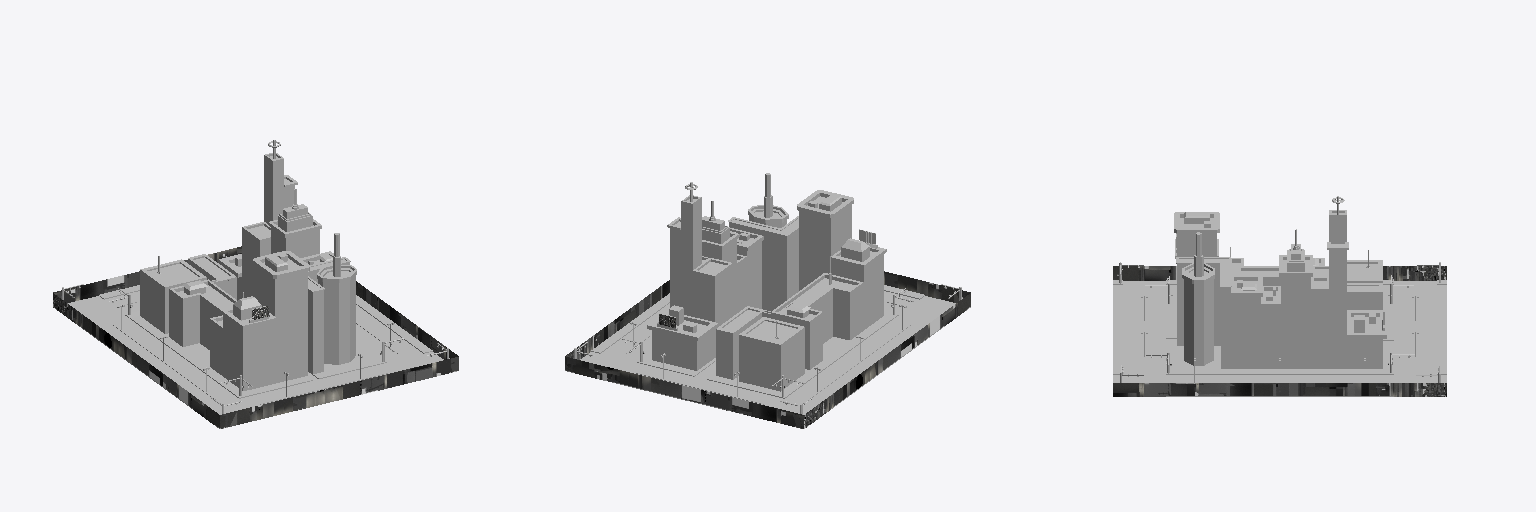
The picture shows the model from 3 angles: view 1: azimuth 30°, elevation 25°; view 2: azimuth 150°, elevation 25°; view 3: azimuth 270°, elevation 25°; orthographic projection.
Visible parts, largest first — view 1: wall, roads, City_Cube.003, sidewalk, building5wall1, City.004_Cube.012, building4wall3, roofs, building4wall2, building1wall2, building6wall1, building3wall3 (+6 smaller); view 2: City_Cube.003, wall, roads, sidewalk, roofs, building5wall3, building6wall5, building1wall1, building4wall2, building3ledge, building1wall2, building3wall5 (+7 smaller); view 3: City_Cube.003, roads, wall, sidewalk, roofs, building6wall2, building6wall4, City.005_Cube.013, City.004_Cube.012, City.007_Cube.015, building5wall2, building2wall1 (+1 smaller).
Boxes of the visible parts, box(x1,y1,x2,y2) form: wall: box(53, 246, 458, 428); roads: box(68, 291, 443, 414); City_Cube.003: box(218, 153, 356, 300); sidewalk: box(54, 265, 456, 428); building5wall1: box(275, 272, 307, 383); City.004_Cube.012: box(323, 276, 355, 364); building4wall3: box(243, 321, 274, 390); roofs: box(149, 156, 352, 325); building4wall2: box(223, 315, 242, 390); building1wall2: box(140, 271, 164, 333); building6wall1: box(313, 290, 323, 373); building3wall3: box(183, 298, 199, 346); City_Cube.003: box(647, 173, 788, 370); wall: box(565, 271, 970, 428); roads: box(580, 291, 955, 414); sidewalk: box(565, 285, 970, 428); roofs: box(675, 196, 875, 341); building5wall3: box(799, 211, 830, 290); building6wall5: box(729, 223, 786, 311); building1wall1: box(739, 336, 780, 391); building4wall2: box(864, 255, 883, 329); building3ledge: box(771, 273, 863, 324); building1wall2: box(781, 329, 804, 390); building3wall5: box(833, 291, 849, 339); City_Cube.003: box(1182, 210, 1386, 368); roads: box(1113, 281, 1446, 382); wall: box(1113, 266, 1446, 396); sidewalk: box(1113, 280, 1446, 396); roofs: box(1179, 213, 1379, 332); building6wall2: box(1177, 264, 1220, 345); building6wall4: box(1221, 287, 1230, 368); City.005_Cube.013: box(1204, 279, 1213, 365); City.004_Cube.012: box(1184, 279, 1193, 365); City.007_Cube.015: box(1194, 284, 1203, 365); building5wall2: box(1177, 234, 1216, 256); building2wall1: box(1347, 293, 1382, 309).
Bounding box in the file's own units: 12.97 × 8.6 × 15.7.
Materials: 2 (1 with a texture image).